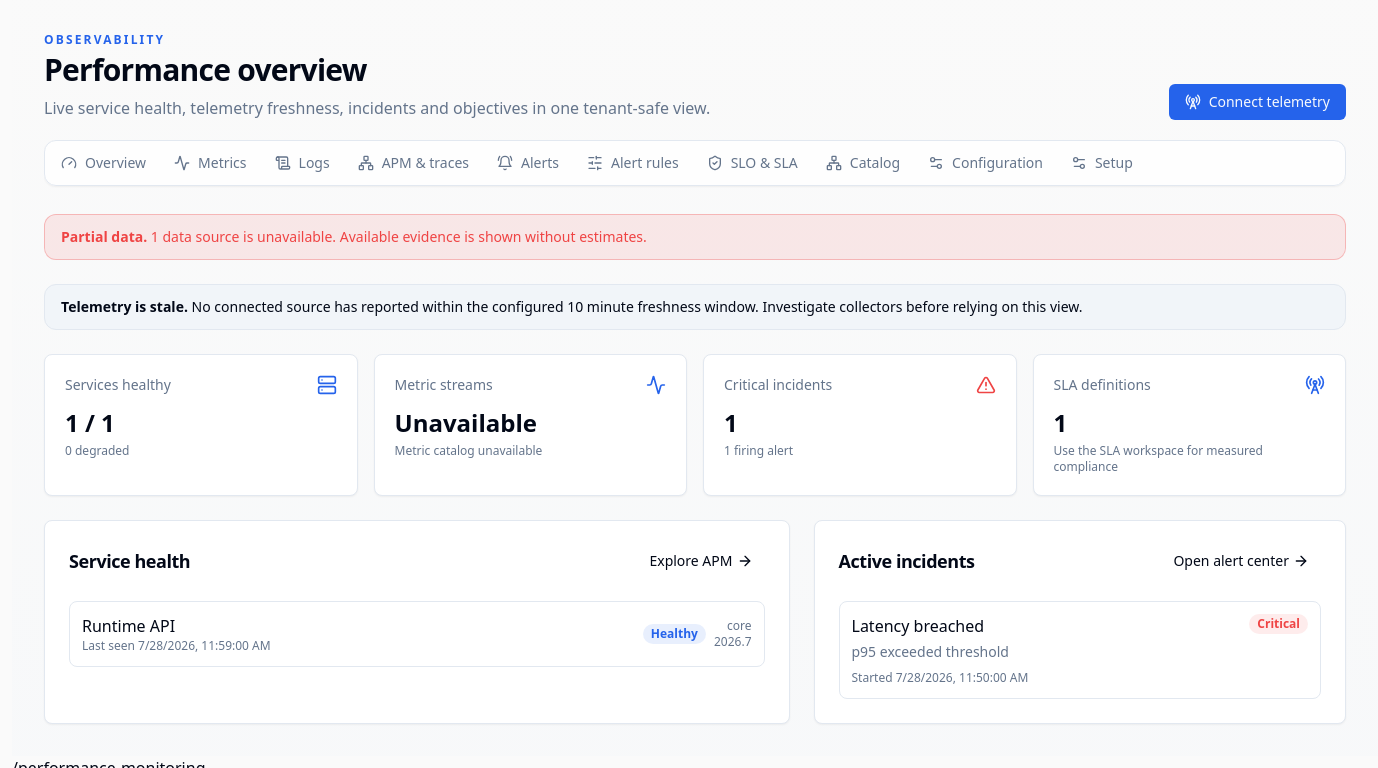
Test case: performance monitoring page coverage › renders dashboard summaries, stale/degraded banners, and setup navigation
Expected: the text "data source is unavailable" is shown, [44,214,1346,260]
Expected: the text "No connected source has reported" is shown, [192,297,564,316]
Click the button "Connect telemetry".
click(1257, 102)  # box [1169,84,1346,120]
(page scrolled)
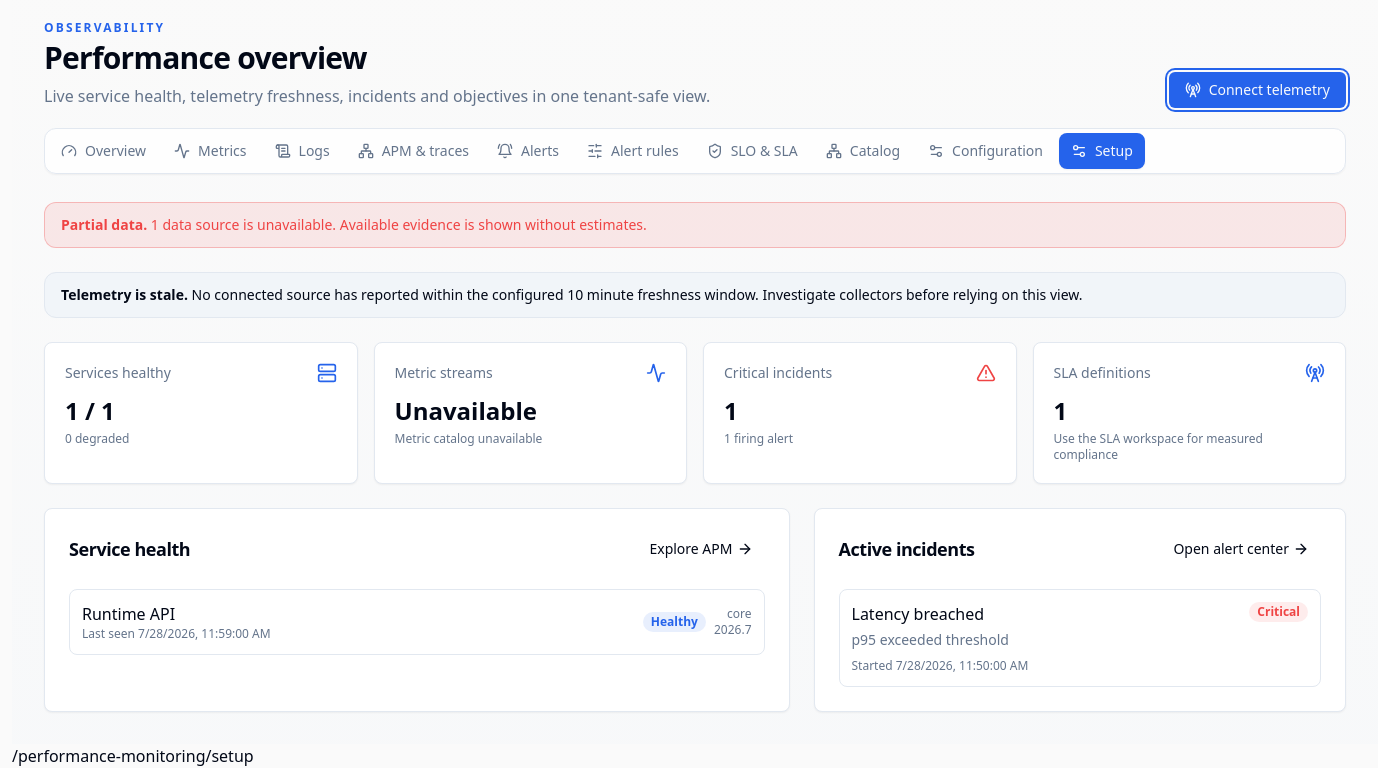
Result: the text with test id "path" reads "/performance-monitoring/setup" at [12,745,254,767]
